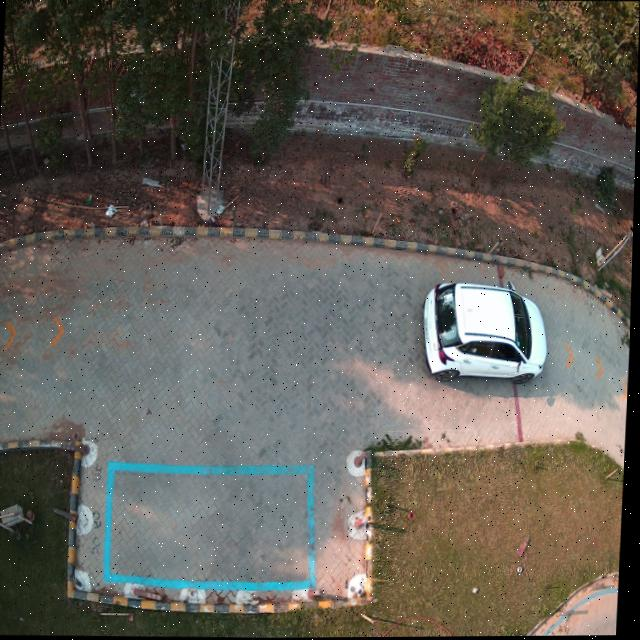car: (424, 283, 549, 386)
